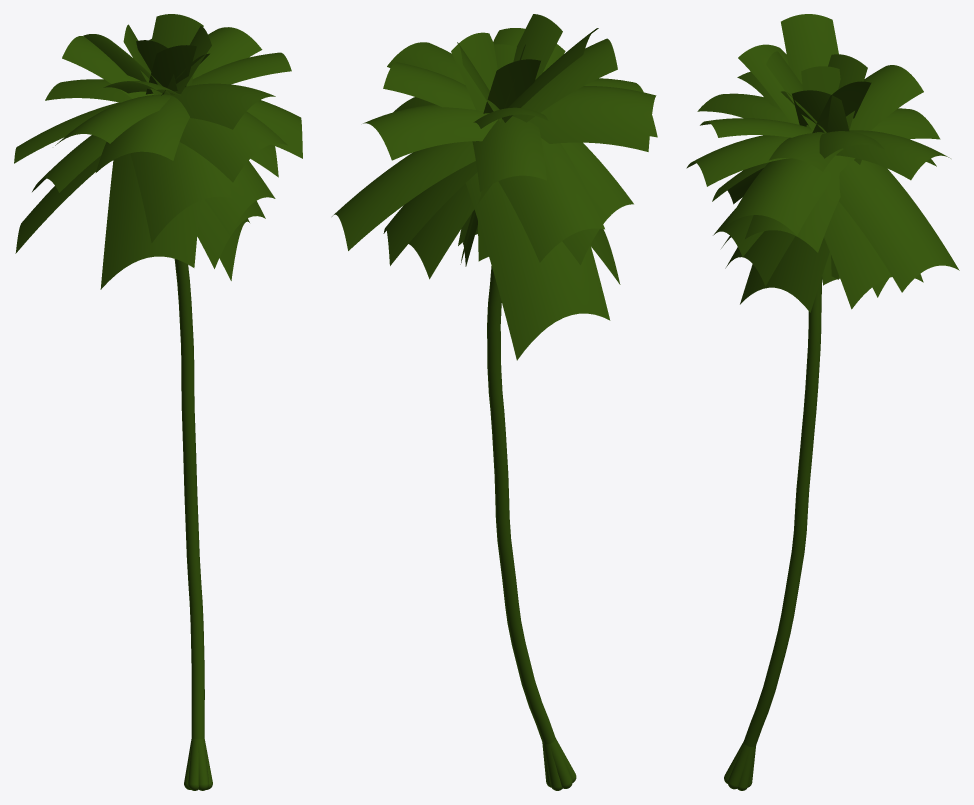
The model's file is Coconut Tree.obj.
The picture shows the model from 3 angles, left to right: view 1: azimuth 30°, elevation 25°; view 2: azimuth 150°, elevation 25°; view 3: azimuth 270°, elevation 25°; orthographic projection. The views are drawn at different scales.
Parts seen in each view (by area): view 1: Coconut_Tree; view 2: Coconut_Tree; view 3: Coconut_Tree.
Part boxes in pixels (left/top/right/bottom): Coconut_Tree: left=14, top=14, right=302, bottom=790; Coconut_Tree: left=332, top=14, right=657, bottom=790; Coconut_Tree: left=686, top=14, right=959, bottom=790.
Size of the model in its own units: 5.46 by 15.7 by 5.23.
